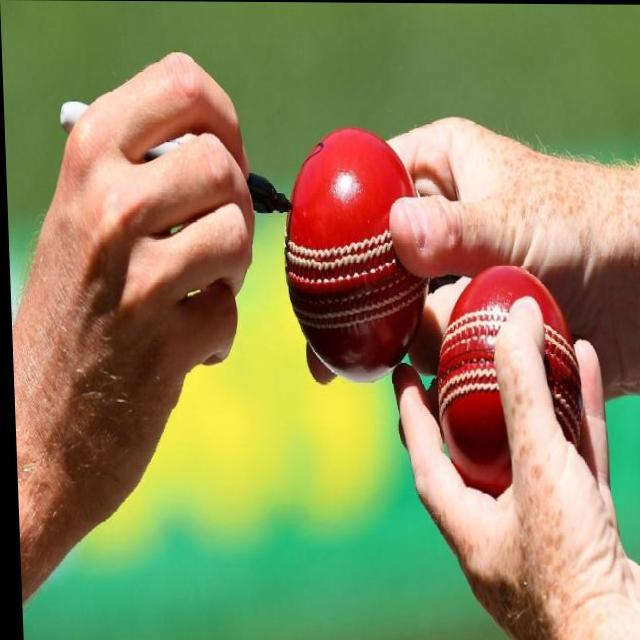cricket ball: (282, 127, 429, 383), (435, 265, 581, 499)
